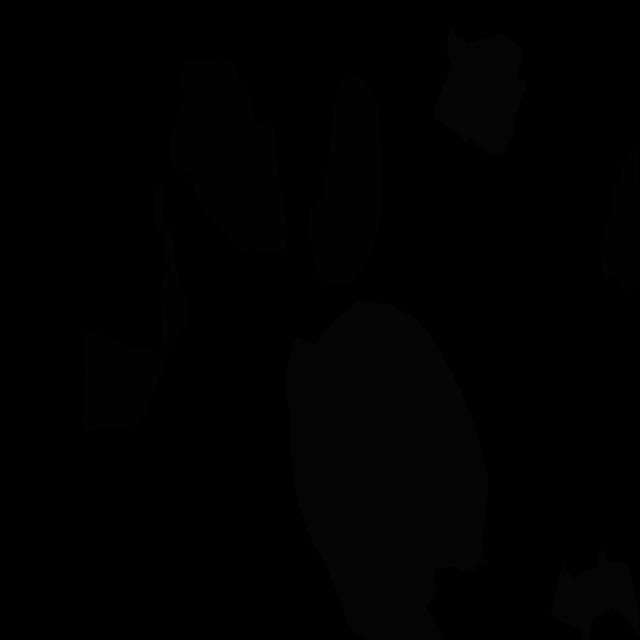cardboard: (170, 55, 290, 254), (309, 75, 382, 287), (82, 327, 170, 431), (600, 147, 640, 290), (154, 185, 189, 347)
soft_plastic: (286, 301, 488, 640), (432, 28, 527, 155), (550, 550, 640, 640)
